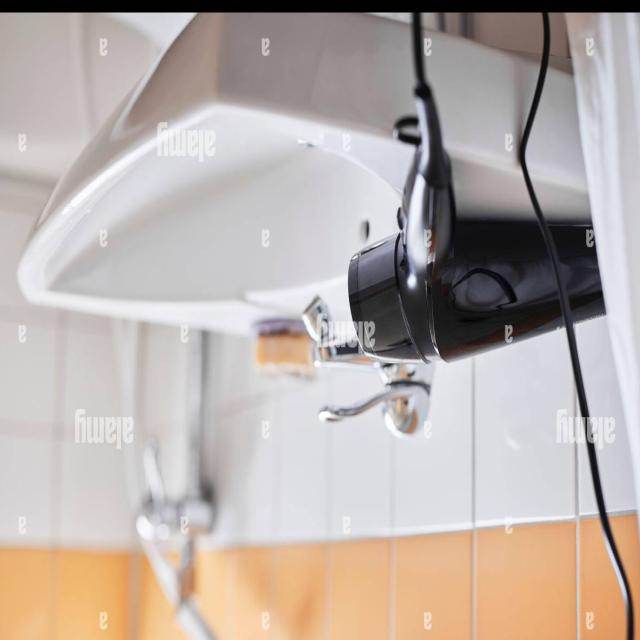dryer: (334, 14, 640, 408)
